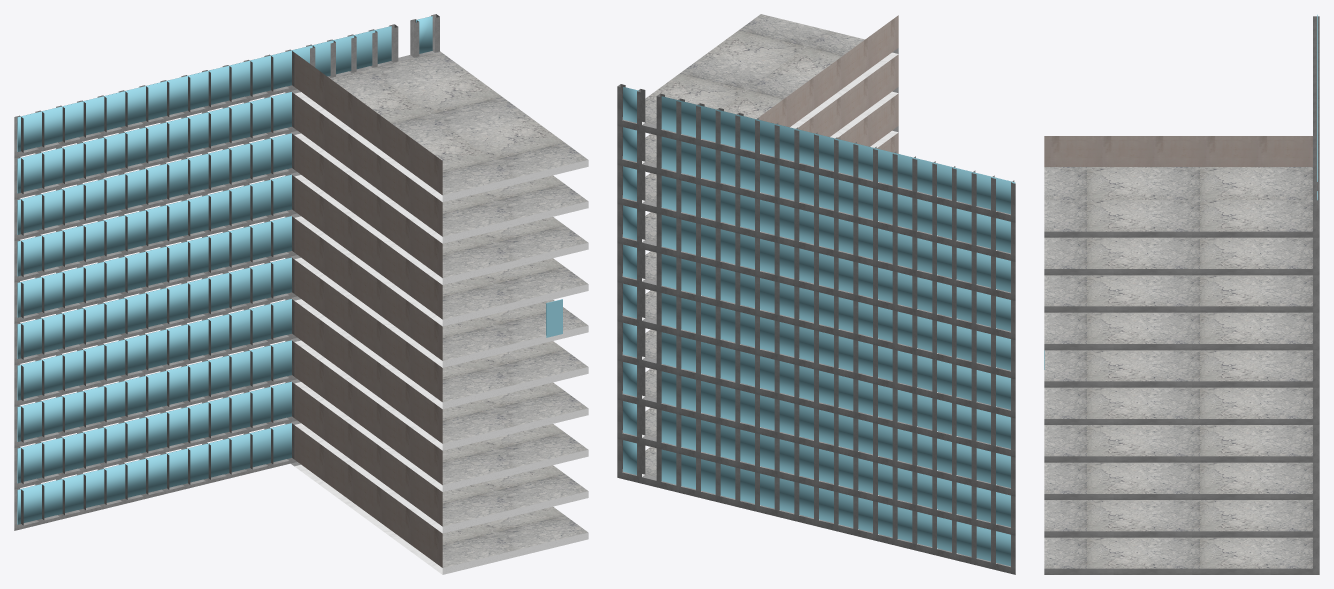
File: shards.fbx
3 views of the same model, side by side, from view 1: azimuth 30°, elevation 25°; view 2: azimuth 150°, elevation 25°; view 3: azimuth 270°, elevation 25° (orthographic). The views are drawn at different scales.
Visible parts, largest first — view 1: PlatformEnd; view 2: PlatformEnd; view 3: PlatformEnd.
Part boxes in pixels (box(x1,y1,x2,y2)): PlatformEnd: box(14, 14, 588, 574); PlatformEnd: box(617, 14, 1015, 574); PlatformEnd: box(1044, 14, 1319, 574).
Size of the model in its own units: 37626 by 35288 by 23520.
Materials: 6 (6 with a texture image).
